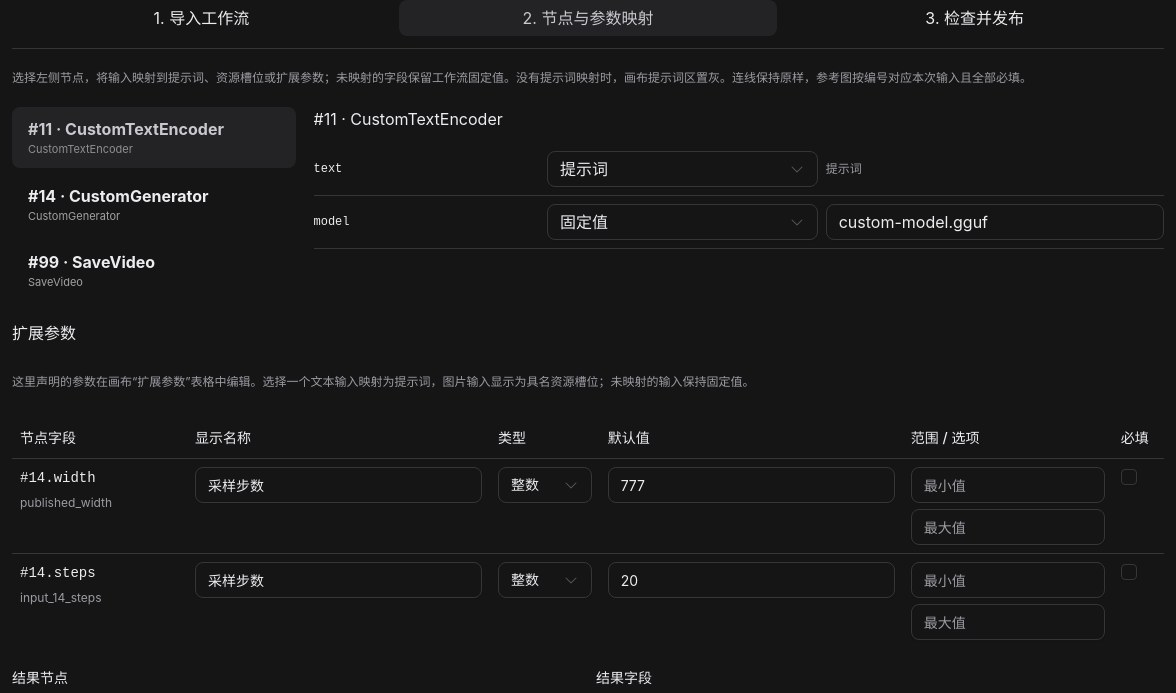
ComfyWorkflowEditor › replaces an invalid extended parameter with a dimension mapping and retains the graph and unrelated parameters
This screenshot has width=1176, height=693.
Step 1. Replace the text in the 1st field named "默认值" with "[640]" → (751, 485), box [608,467,895,503]
Step 2. Press Tab
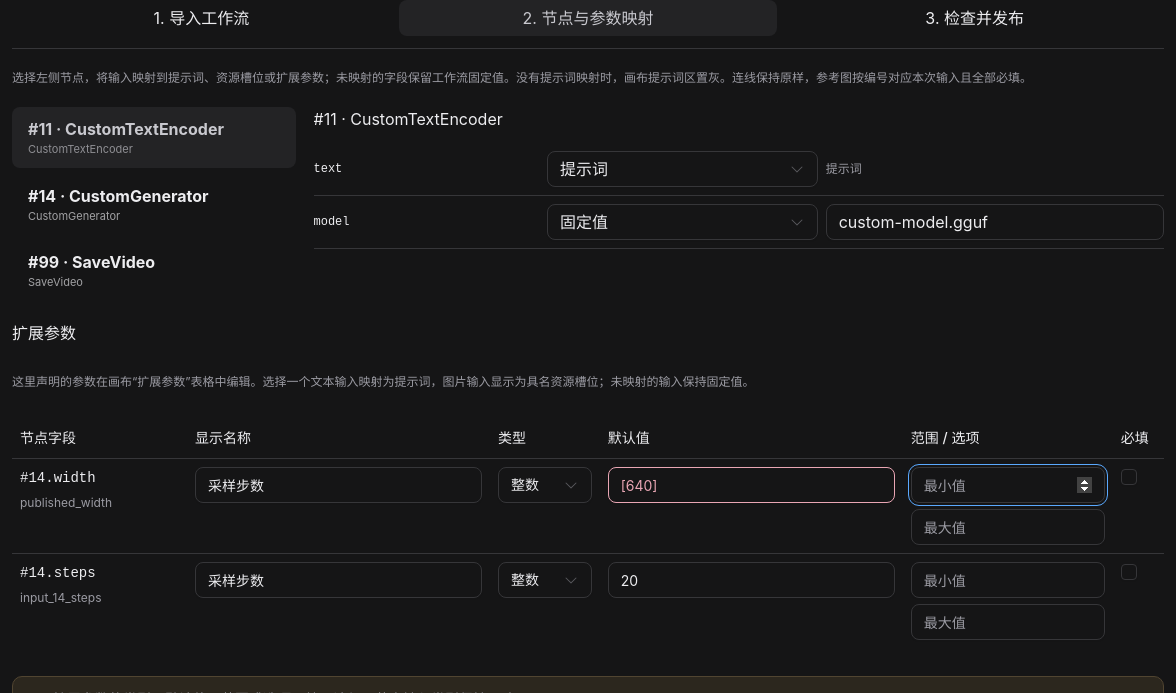
Check: the 1st field named "默认值" is marked as invalid, box [608,467,895,503]
Step 3. Click the button "#14 · CustomGenerator CustomGenerator" → (154, 204), box [12,174,296,234]
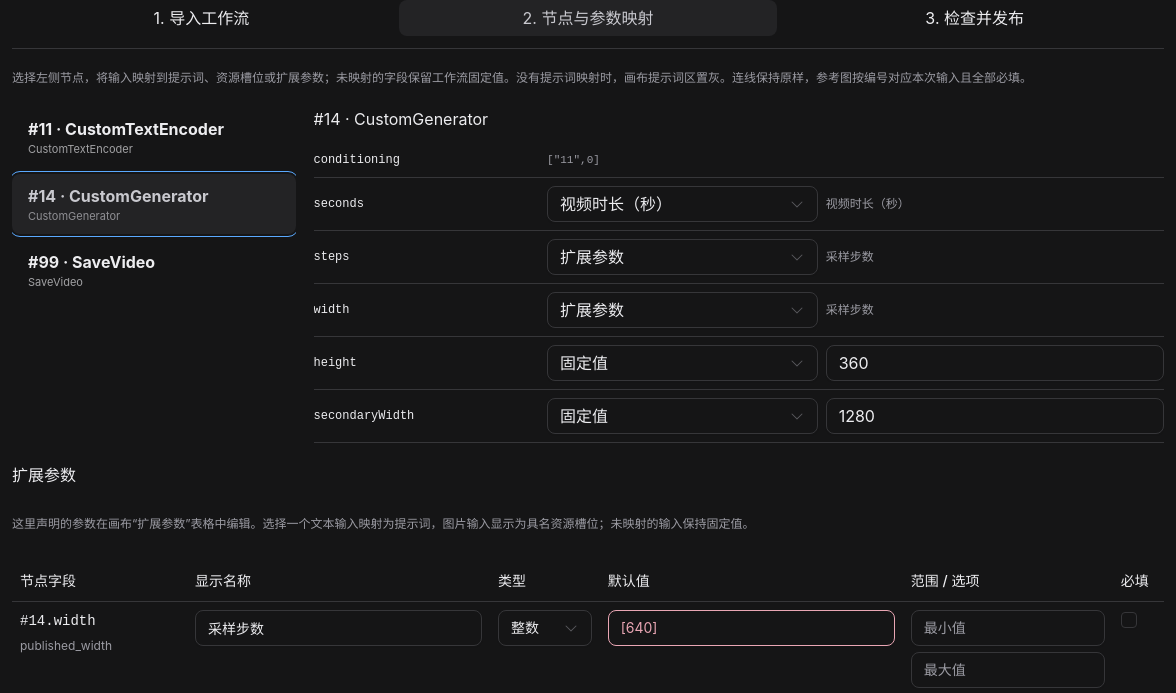
Step 4. Click the dropdown named "width 的参数来源" → (592, 310), box [547,292,818,328]
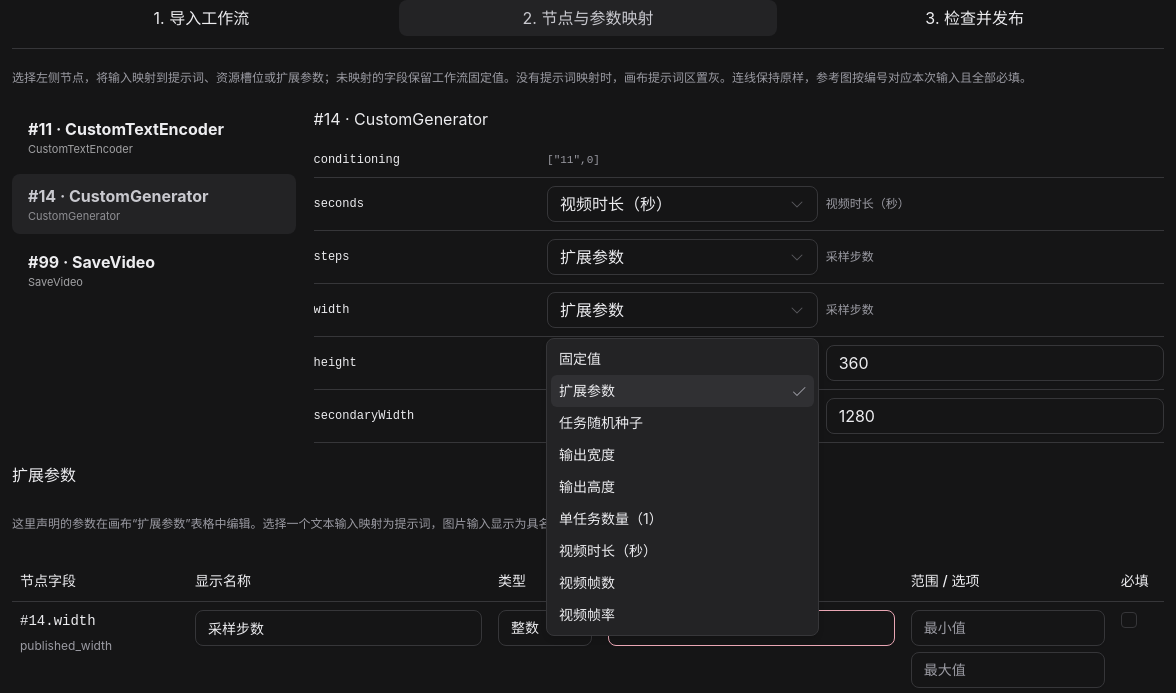
Step 5. Click the option "输出宽度" → (587, 454), box [559,446,615,463]
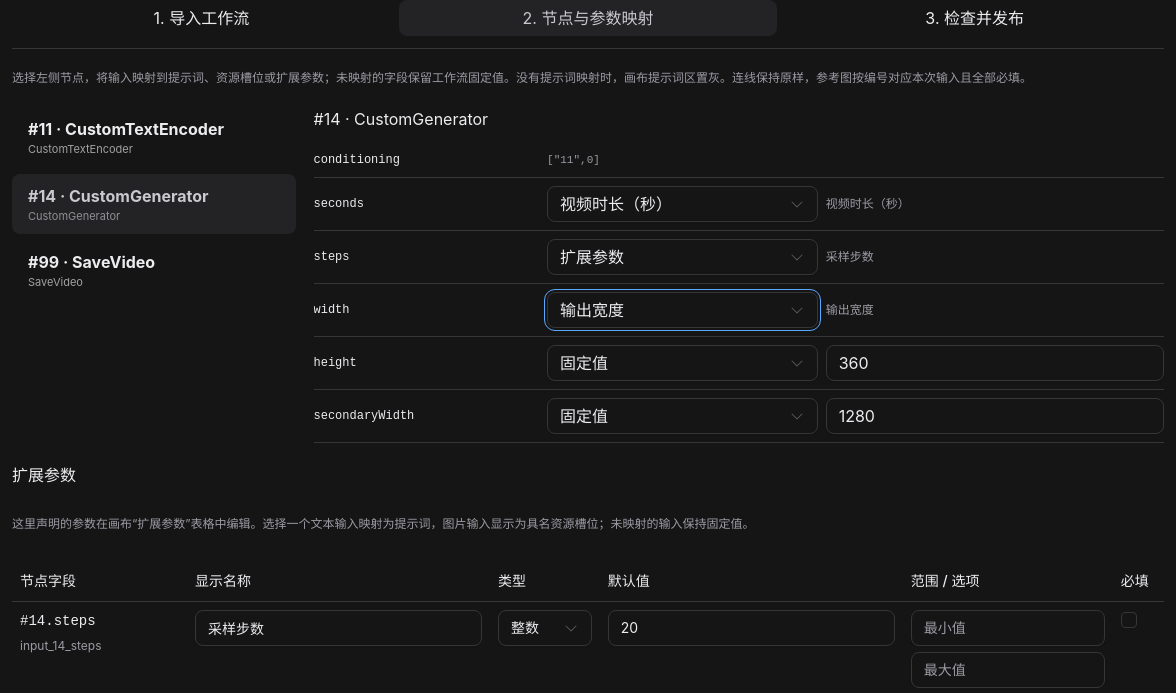
Check: the text "#14.width" is gone
Step 6. Click the dropdown named "height 的参数来源" → (584, 363), box [547,345,818,381]
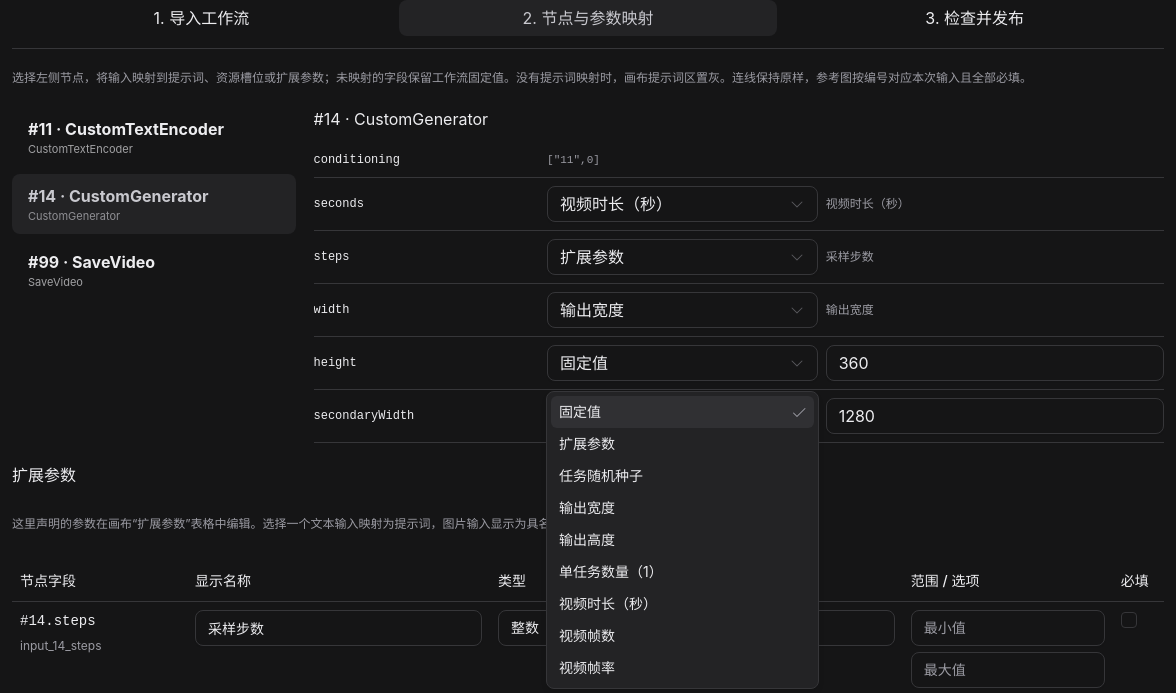
Step 7. Click the option "输出高度" → (587, 540), box [559,531,615,548]
(page scrolled)
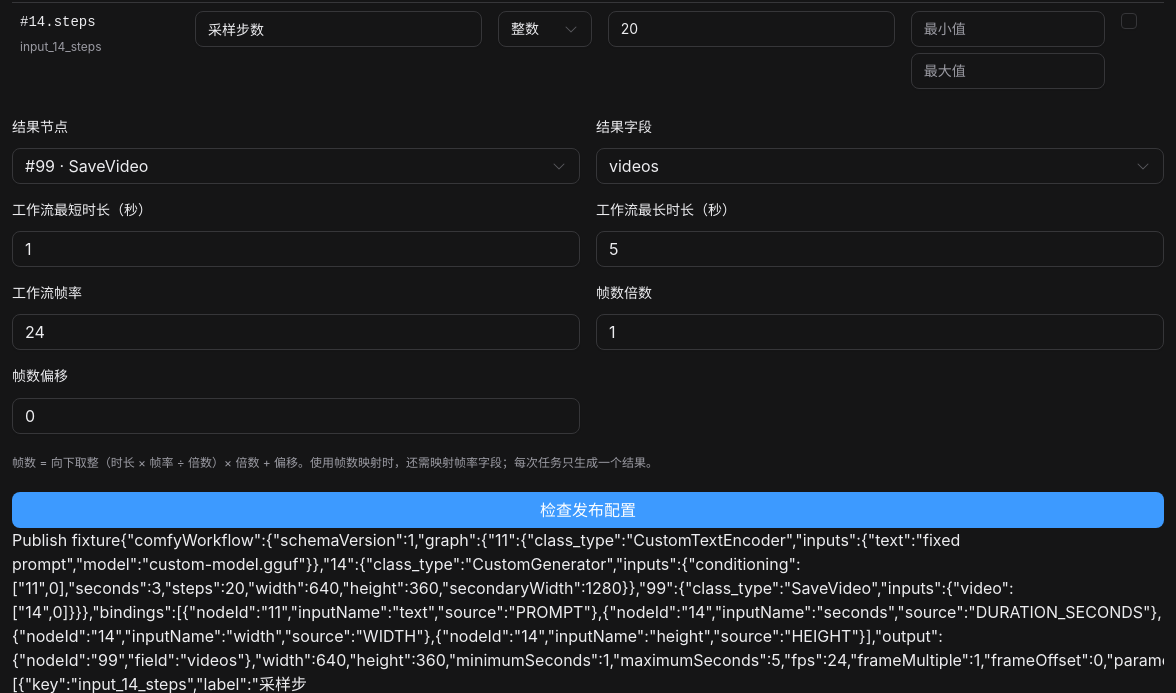
Check: the button "Publish fixture" is enabled, box [12,528,120,552]
